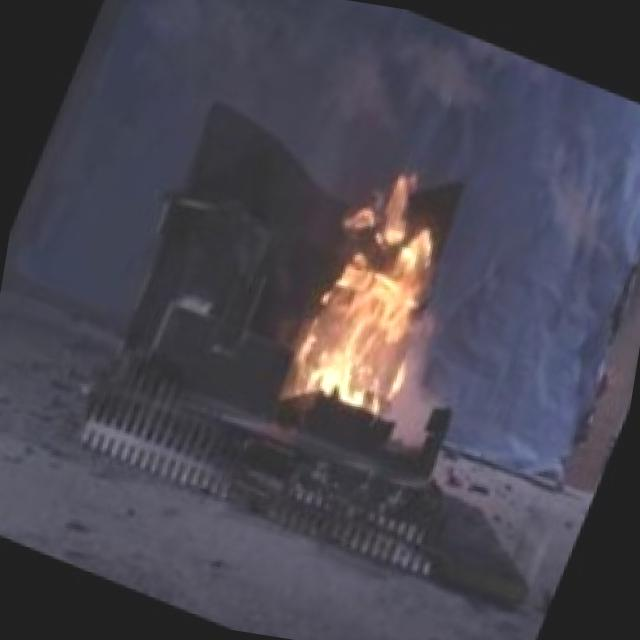fire: (254, 126, 500, 461)
